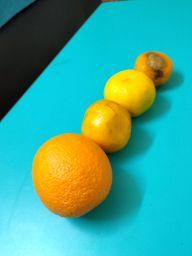orange: (32, 132, 114, 218), (81, 99, 133, 154), (103, 69, 157, 118), (135, 51, 173, 86)
